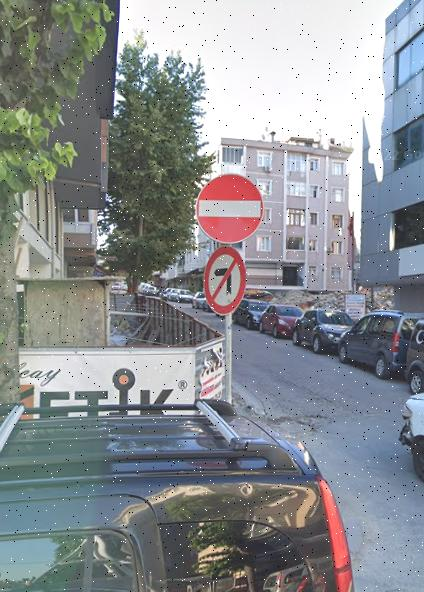leftturnsareforbidden: (206, 252, 242, 312)
